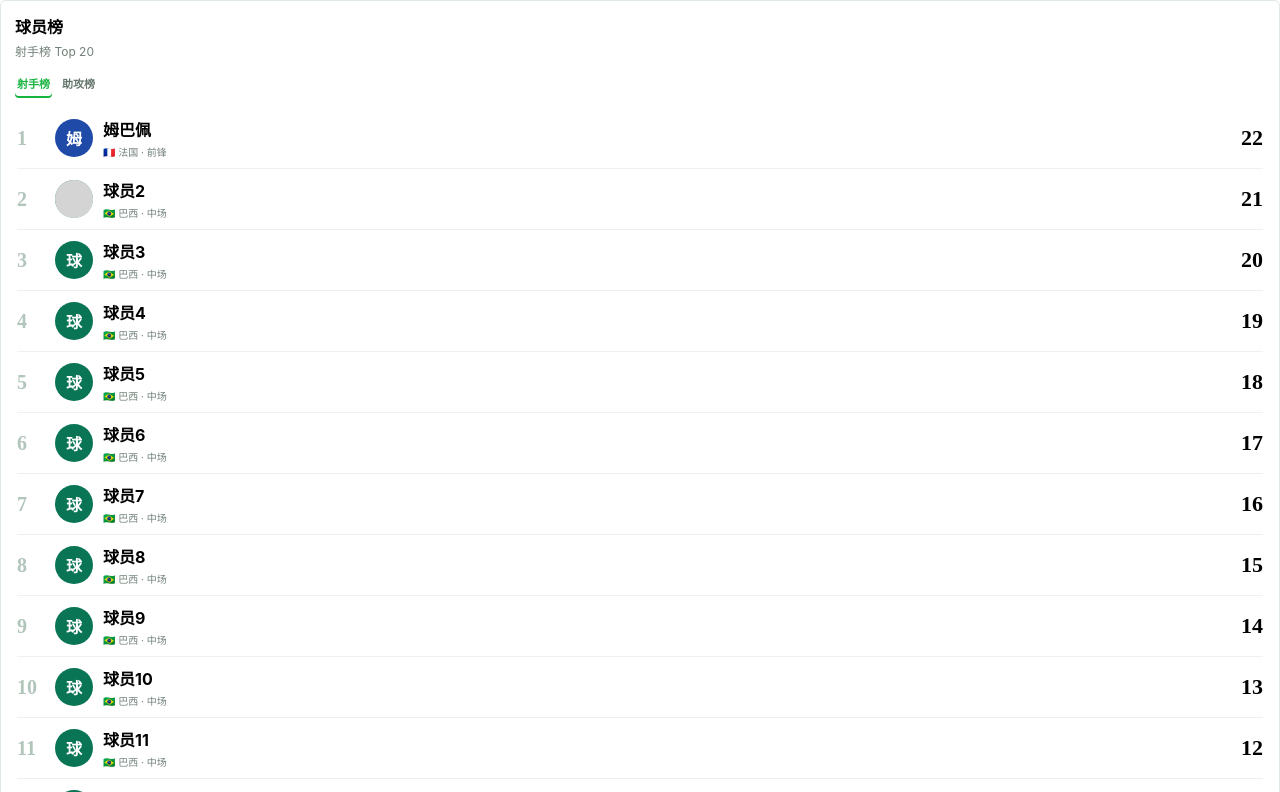
Test: PlayerLeaderboard › switches between simple leaderboard tabs
Click the button "助攻榜".
click(78, 83)  # box [60,68,97,98]
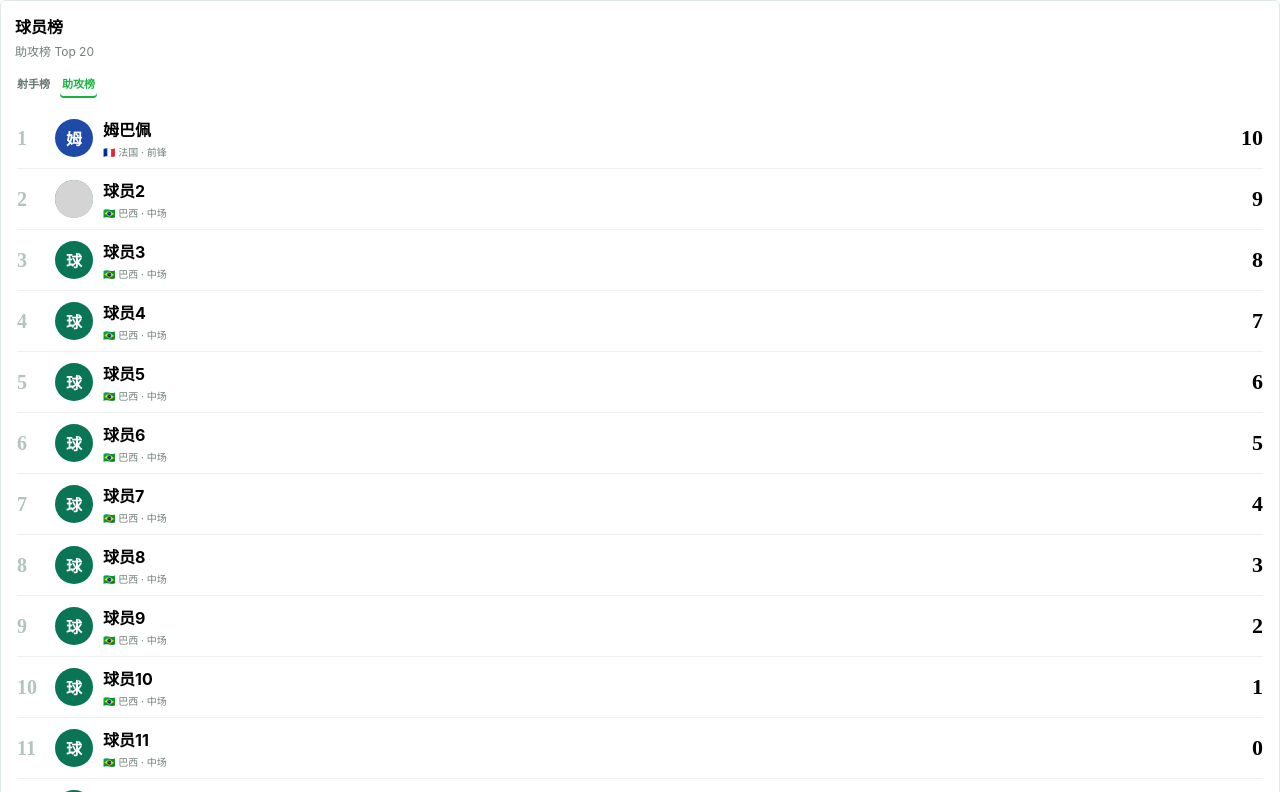
Check: the text "助攻榜 Top 20" is shown, box [15,42,94,59]
Check: the text named "10次" is shown, box [1241,125,1263,151]
